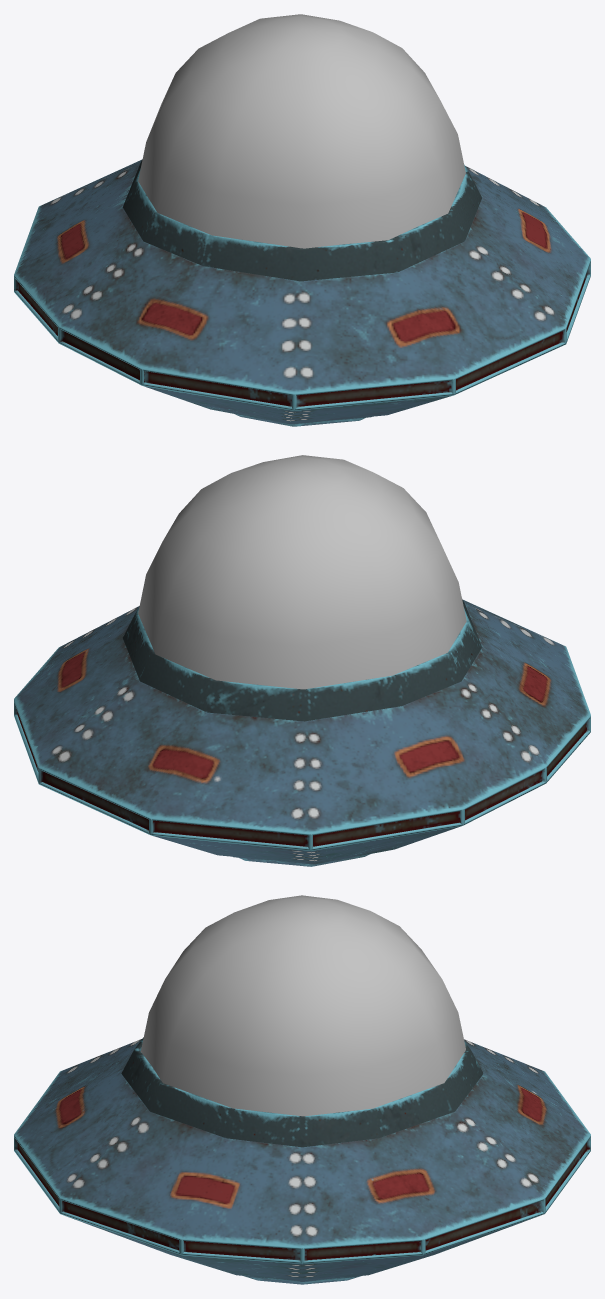
The model's file is ovni.fbx.
3 renders of one model, top to bottom at view 1: azimuth 30°, elevation 25°; view 2: azimuth 150°, elevation 25°; view 3: azimuth 270°, elevation 25°, orthographic. The views are drawn at different scales.
Parts seen in each view (by area): view 1: polySurface3; view 2: polySurface3; view 3: polySurface3.
Part boxes in pixels (<box>): polySurface3: <box>14,14,590,426</box>; polySurface3: <box>14,455,590,866</box>; polySurface3: <box>14,895,590,1284</box>.
Size of the model in its own units: 801 by 547 by 865.
